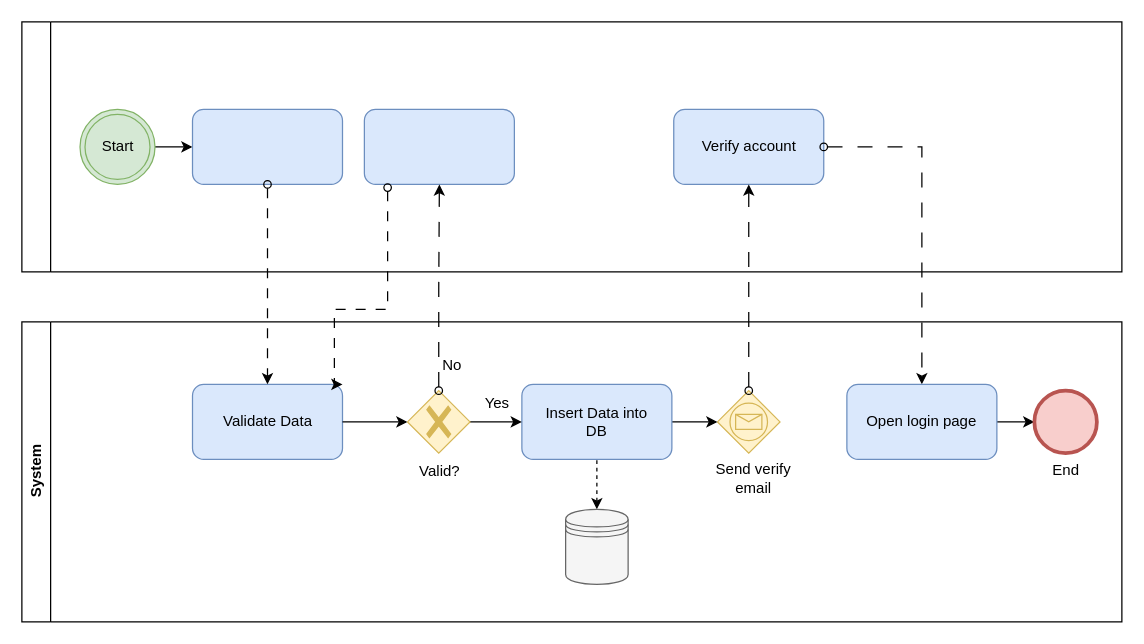
This 1144x644 diagram has some shape labels left out. Each missing label, with the box of its shape:
Fill From: (191, 108, 342, 184)
Fix inputs: (363, 108, 514, 184)
User: (21, 21, 1122, 272)
